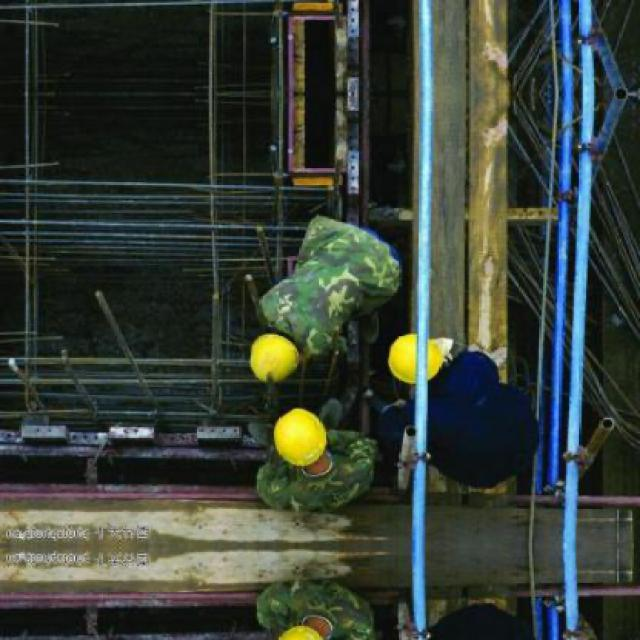helmet: (272, 408, 330, 468), (386, 330, 446, 386), (248, 332, 302, 384), (272, 624, 331, 638)
